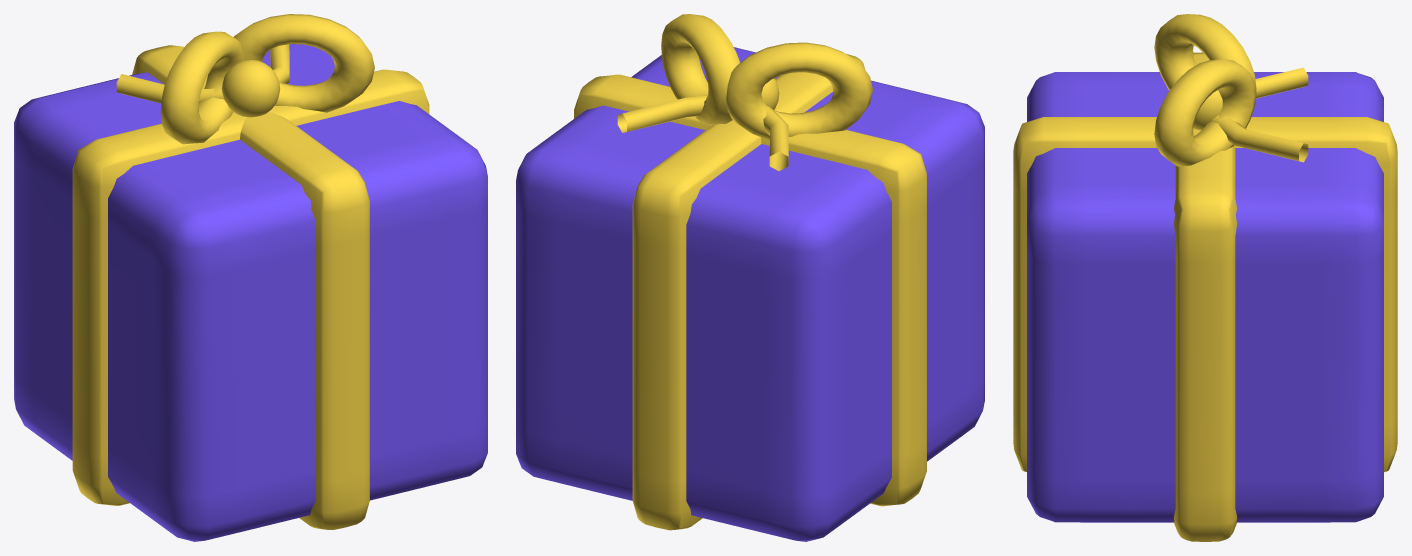
The model's file is GiftBox.obj.
3 views of the same model, side by side, from view 1: azimuth 30°, elevation 25°; view 2: azimuth 150°, elevation 25°; view 3: azimuth 270°, elevation 25° (orthographic). The views are drawn at different scales.
Parts seen in each view (by area): view 1: Box, Ribbon; view 2: Box, Ribbon; view 3: Box, Ribbon.
Boxes of the visible parts, x1,y1,x2,y2 form: Box: (14,44,487,541); Ribbon: (72,14,429,529); Box: (516,47,984,541); Ribbon: (574,14,926,530); Box: (1027,72,1383,522); Ribbon: (1013,14,1397,541).
Size of the model in its own units: 4.3 by 5.28 by 4.3.
